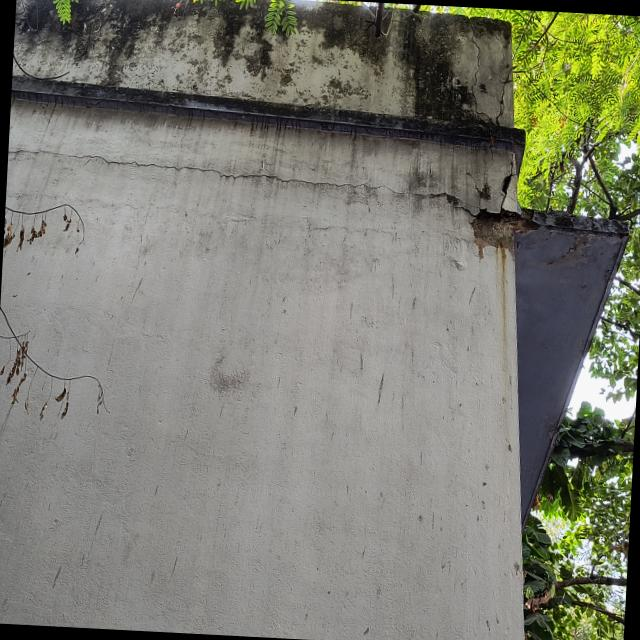crack: (38, 149, 488, 210), (437, 17, 513, 171), (8, 148, 39, 155)
peeling: (515, 228, 620, 372), (471, 154, 539, 258), (519, 406, 560, 495)
stain_mould: (11, 0, 525, 155), (584, 236, 629, 360), (523, 414, 564, 530), (532, 210, 629, 236)
